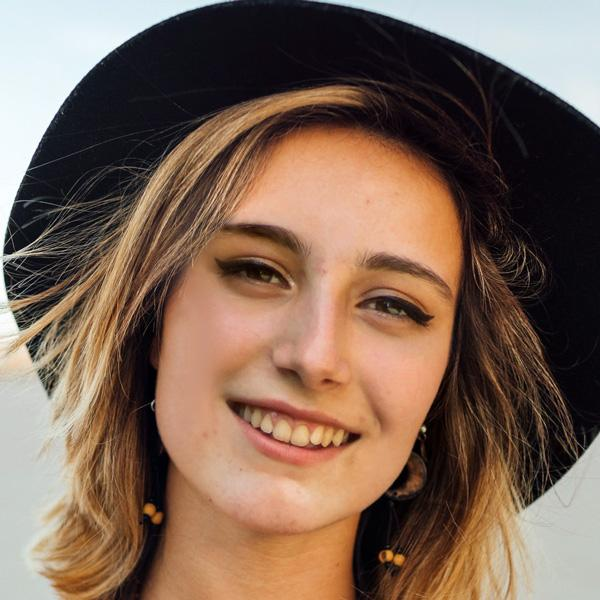Eyes: (346, 275, 438, 342), (211, 245, 299, 298)
